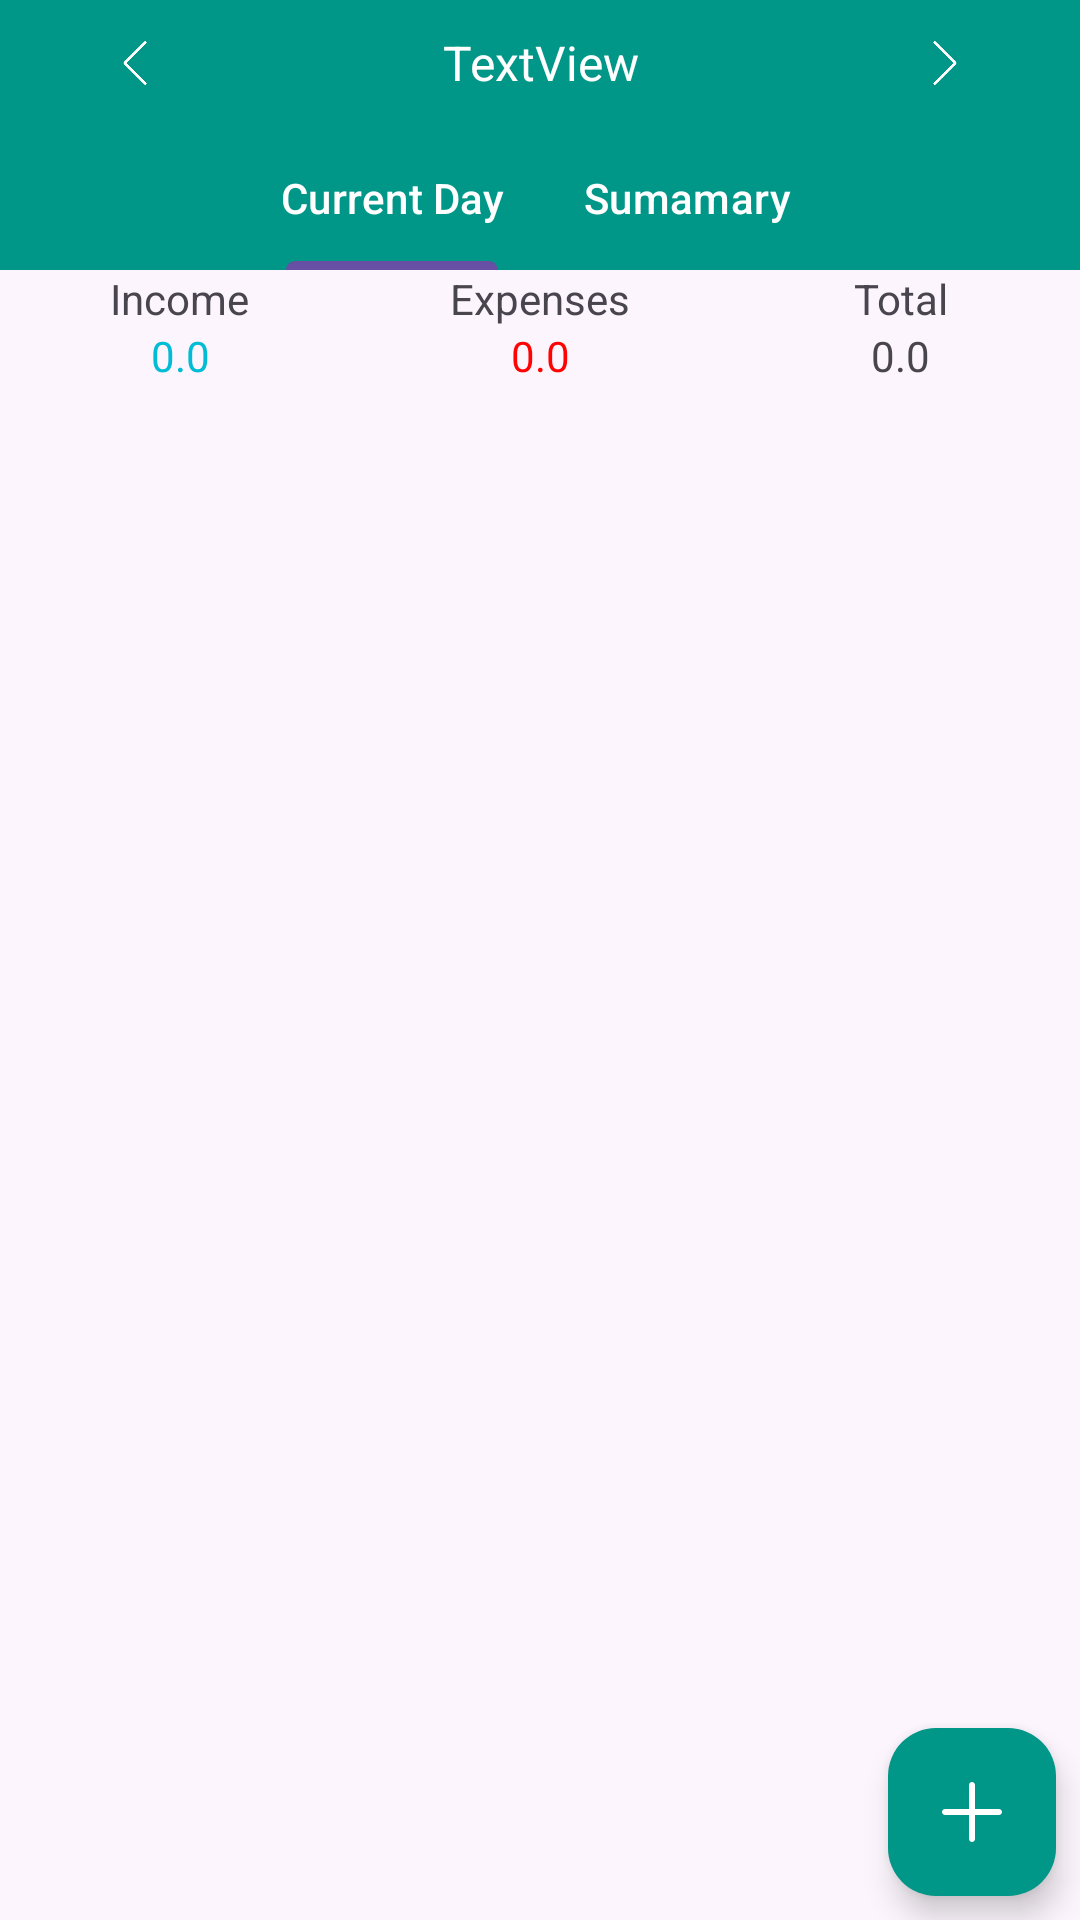

Screen size 1080x1920. Icon name, then its center in pixels as (x,y):
plus: (972,1812)
